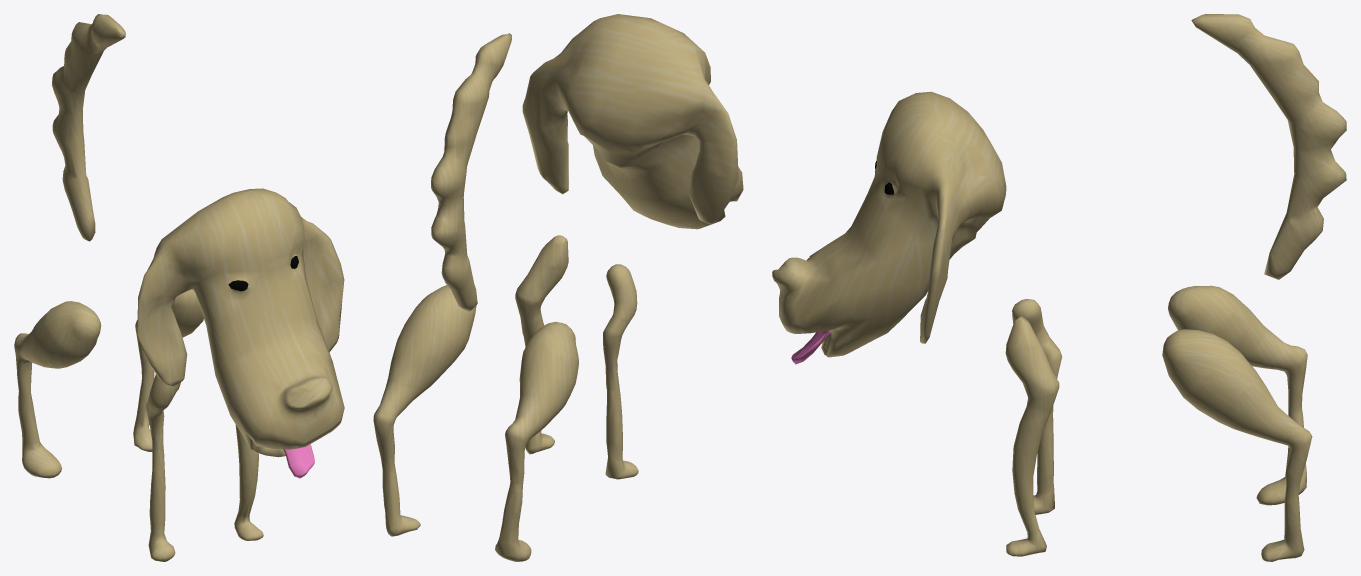
Rendered from ch7_dog.glb.
3 renders of one model, left to right at view 1: azimuth 30°, elevation 25°; view 2: azimuth 150°, elevation 25°; view 3: azimuth 270°, elevation 25°, orthographic. The views are drawn at different scales.
Parts seen in each view (by area): view 1: _h7, _r71, _r73, _b72, _r72, _b71; view 2: _h7, _r72, _r71, _r73, _b72, _b71; view 3: _h7, _r71, _r72, _r73, _b71, _b72.
Part boxes in pixels (x1=…): _h7: x1=137, y1=188, x2=344, y2=478; _r71: x1=52, y1=14, x2=125, y2=241; _r73: x1=14, y1=301, x2=101, y2=478; _b72: x1=146, y1=374, x2=180, y2=561; _r72: x1=133, y1=289, x2=203, y2=451; _b71: x1=234, y1=425, x2=263, y2=540; _h7: x1=522, y1=14, x2=743, y2=229; _r72: x1=373, y1=285, x2=476, y2=536; _r71: x1=431, y1=33, x2=511, y2=311; _r73: x1=495, y1=321, x2=578, y2=561; _b72: x1=603, y1=264, x2=638, y2=479; _b71: x1=515, y1=235, x2=568, y2=454; _h7: x1=772, y1=91, x2=1006, y2=364; _r71: x1=1191, y1=14, x2=1346, y2=279; _r72: x1=1162, y1=329, x2=1312, y2=561; _r73: x1=1168, y1=285, x2=1307, y2=505; _b71: x1=1005, y1=316, x2=1059, y2=556; _b72: x1=1012, y1=299, x2=1062, y2=514.
Bounding box in the file's own units: 0.6127 × 1.34 × 1.35.
Materials: 3 (1 with a texture image).
